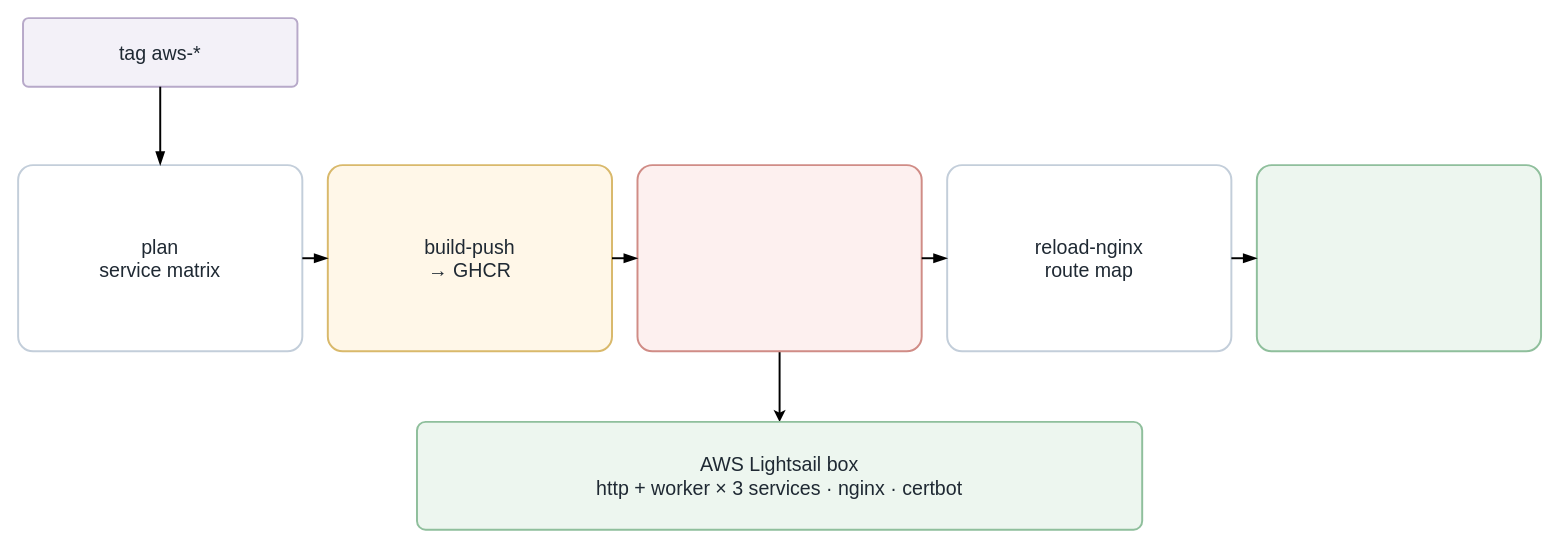
The diagram is 1558 pixels wide and 547 high, and some of its shapes have lost their labels. The shapes that lost their labels are listed below. From the top down, each one's centre as x and y in pixels, then its label:
At (779,258): "deploy manual gate".
At (1398,258): "smoke-all 3 services".
